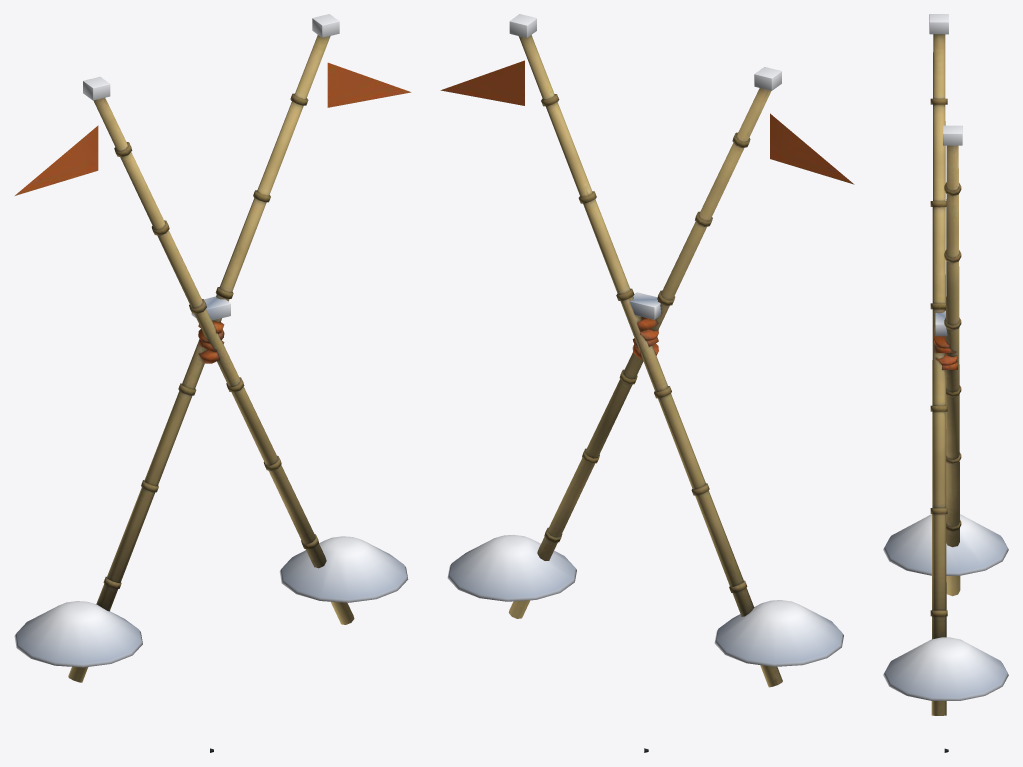
File: hazard_cross.glb
The picture shows the model from 3 angles, left to right: view 1: azimuth 30°, elevation 25°; view 2: azimuth 150°, elevation 25°; view 3: azimuth 270°, elevation 25°; orthographic projection. The views are drawn at different scales.
Parts seen in each view (by area): view 1: hazard_cross, hazard_cross_snow; view 2: hazard_cross, hazard_cross_snow; view 3: hazard_cross, hazard_cross_snow.
Boxes of the visible parts, x1,y1,x2,y2 form: hazard_cross: [15, 35, 411, 752]; hazard_cross_snow: [14, 14, 408, 667]; hazard_cross: [440, 35, 854, 752]; hazard_cross_snow: [447, 14, 843, 666]; hazard_cross: [930, 34, 961, 752]; hazard_cross_snow: [883, 14, 1008, 700].
Size of the model in its own units: 1.68 by 2.78 by 0.4675.
Materials: 2 (1 with a texture image).
